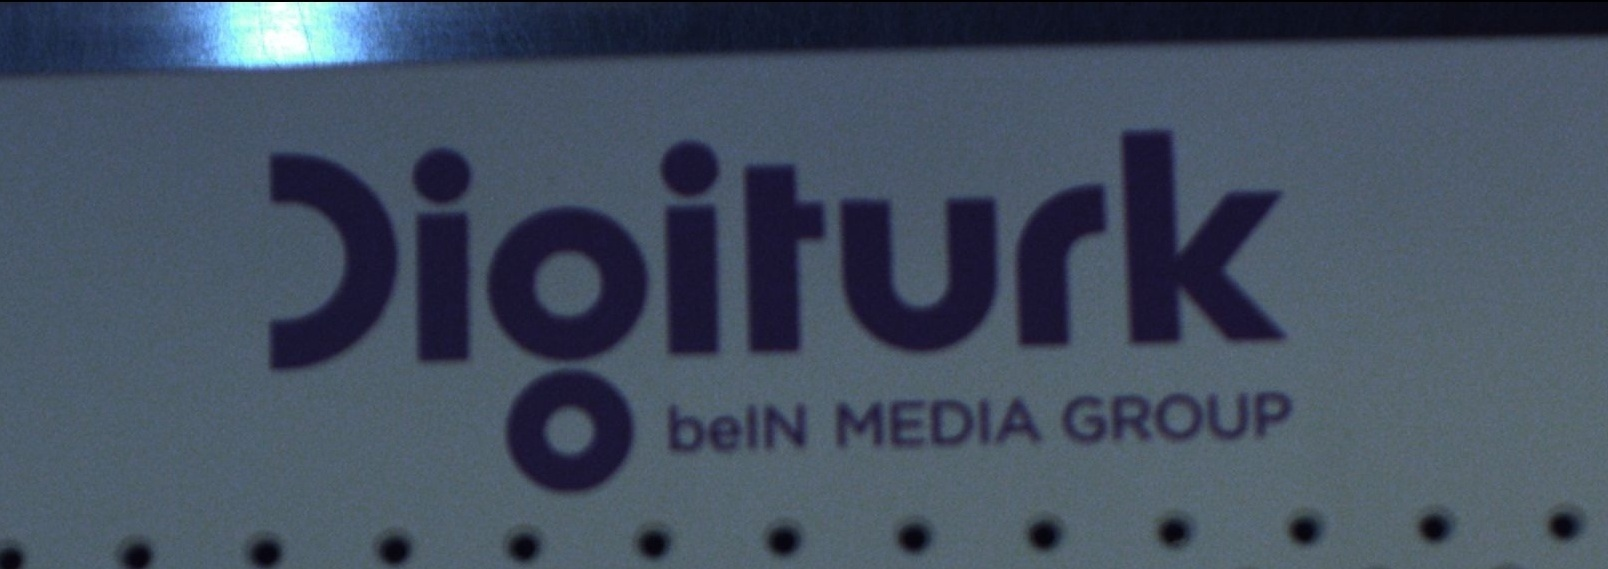BW_H168ADigiturk: (235, 99, 1335, 496)
